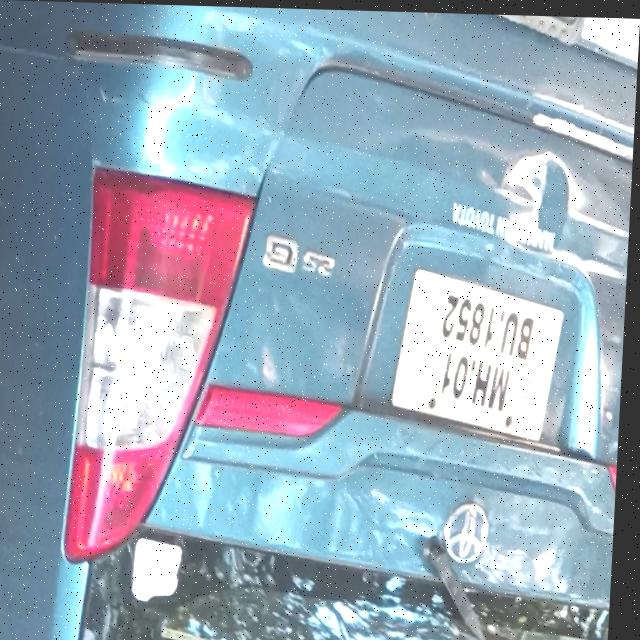plate: (393, 265, 571, 445)
